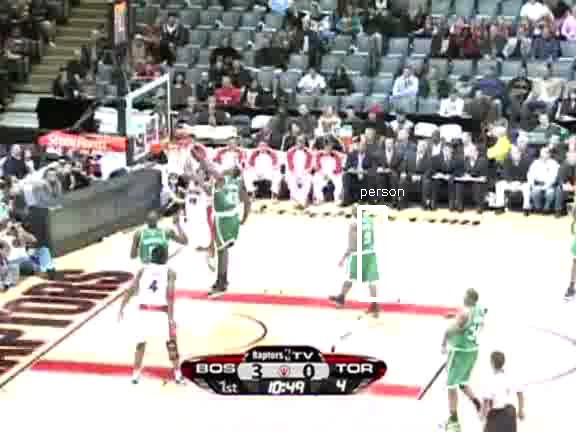person: (347, 210, 381, 291), (346, 210, 380, 291), (348, 210, 382, 291), (347, 209, 381, 290), (347, 211, 381, 292)
target_negative: (271, 57, 531, 314), (226, 82, 521, 164), (340, 320, 470, 406), (275, 51, 306, 237), (401, 405, 568, 426), (39, 338, 44, 363)
